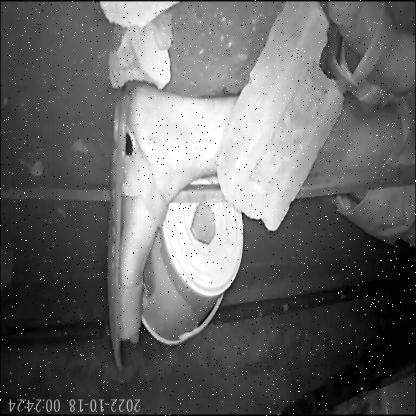leg: (96, 62, 232, 382)
